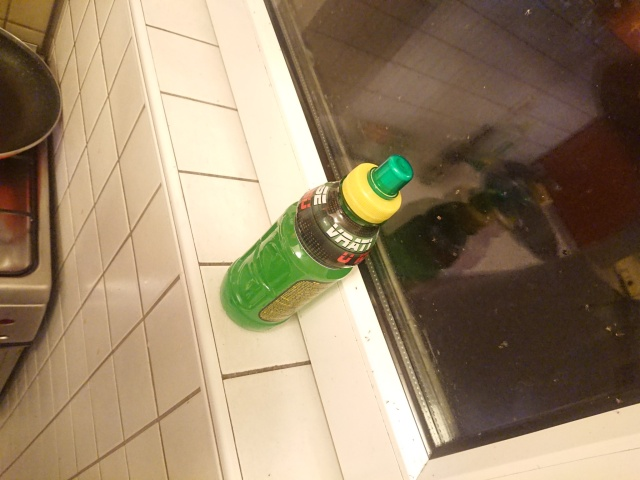Vindi Iso Sport Lemon-Grapefruit 500mL: (217, 152, 416, 335)
